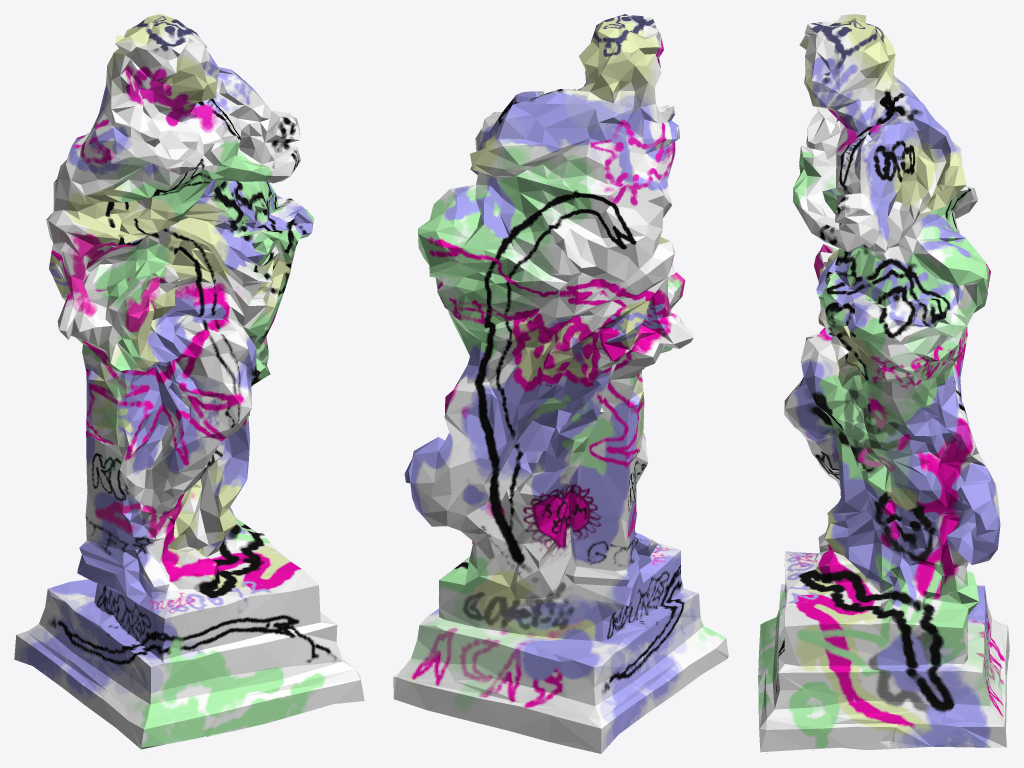
Rendered from uprimnost.glb.
3 renders of one model, left to right at view 1: azimuth 30°, elevation 25°; view 2: azimuth 150°, elevation 25°; view 3: azimuth 270°, elevation 25°, orthographic. The views are drawn at different scales.
Visible parts, largest first — view 1: UPRIMNOST_5K_2KTEX; view 2: UPRIMNOST_5K_2KTEX; view 3: UPRIMNOST_5K_2KTEX.
Part boxes in pixels (left/top/right/bottom): UPRIMNOST_5K_2KTEX: left=14, top=14, right=364, bottom=749; UPRIMNOST_5K_2KTEX: left=393, top=14, right=728, bottom=753; UPRIMNOST_5K_2KTEX: left=758, top=14, right=1009, bottom=753.
Size of the model in its own units: 30.08 by 77.53 by 26.96.
Materials: 1 (1 with a texture image).
